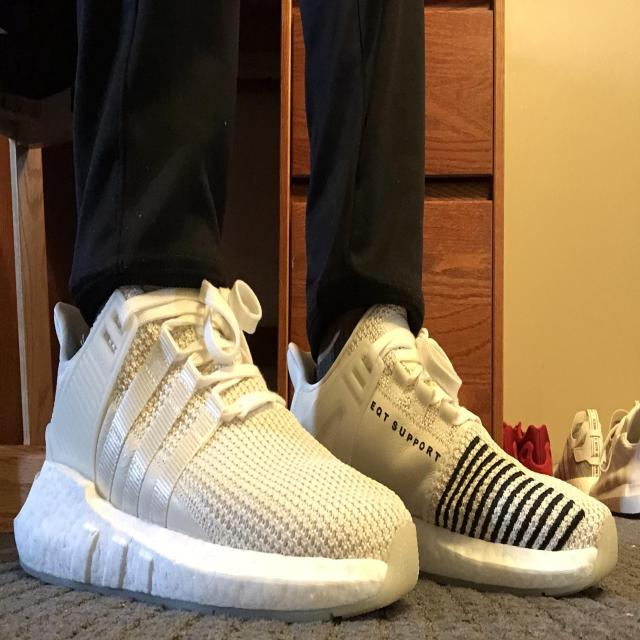shoe: (6, 265, 424, 627), (280, 292, 629, 607), (550, 390, 613, 497), (492, 396, 560, 492)
